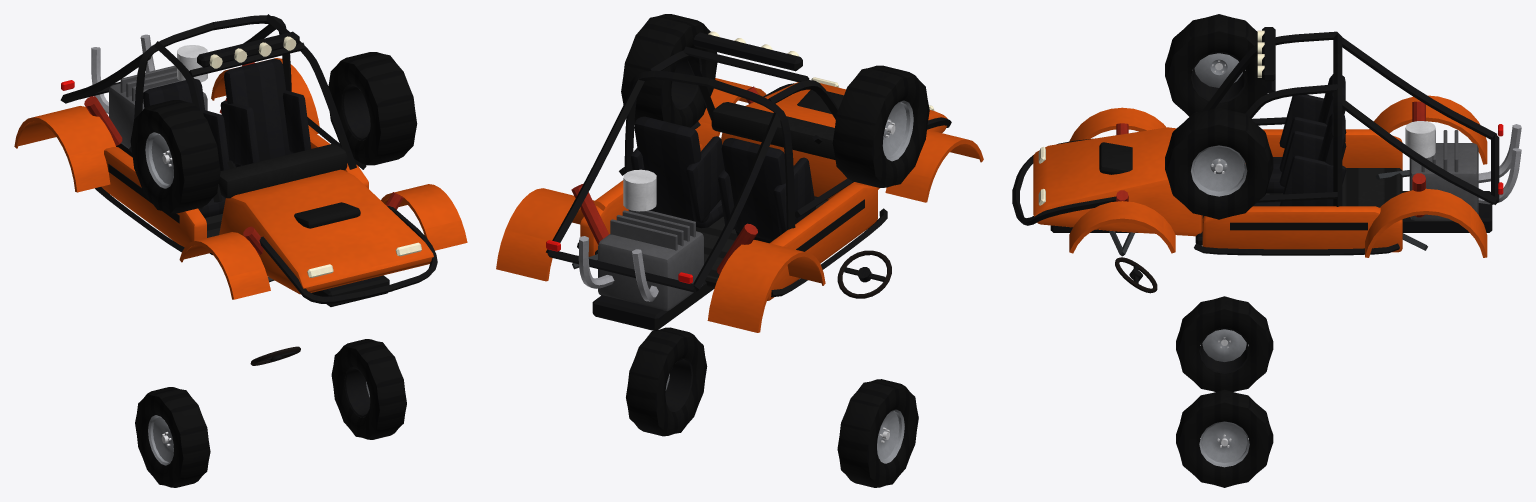
The model's file is ToofanBuggy.fbx.
3 views of the same model, side by side, from view 1: azimuth 30°, elevation 25°; view 2: azimuth 150°, elevation 25°; view 3: azimuth 270°, elevation 25° (orthographic). The views are drawn at different scales.
Visible parts, largest first — view 1: Body_LOD0, Wheel_RR_Mesh_LOD0, Wheel_RL_Mesh_LOD0, Wheel_FL_Mesh_LOD0, Wheel_FR_Mesh_LOD0; view 2: Body_LOD0, Wheel_RR_Mesh_LOD0, Wheel_FL_Mesh_LOD0, Wheel_FR_Mesh_LOD0, Wheel_RL_Mesh_LOD0, Steering_Pivot_Mesh_LOD0; view 3: Body_LOD0, Wheel_RL_Mesh_LOD0, Wheel_RR_Mesh_LOD0, Wheel_FL_Mesh_LOD0, Wheel_FR_Mesh_LOD0, Steering_Pivot_Mesh_LOD0.
Boxes of the visible parts, x1,y1,x2,y2 form: Body_LOD0: (14,14,467,306); Wheel_RR_Mesh_LOD0: (130,100,220,213); Wheel_RL_Mesh_LOD0: (328,52,417,165); Wheel_FL_Mesh_LOD0: (331,339,406,439); Wheel_FR_Mesh_LOD0: (135,387,210,487); Body_LOD0: (496,31,983,332); Wheel_RR_Mesh_LOD0: (832,65,929,187); Wheel_FL_Mesh_LOD0: (626,327,707,436); Wheel_FR_Mesh_LOD0: (837,379,918,487); Wheel_RL_Mesh_LOD0: (621,14,717,127); Steering_Pivot_Mesh_LOD0: (837,250,891,298); Body_LOD0: (1012,27,1521,257); Wheel_RL_Mesh_LOD0: (1165,107,1273,219); Wheel_RR_Mesh_LOD0: (1165,14,1267,116); Wheel_FL_Mesh_LOD0: (1176,389,1273,487); Wheel_FR_Mesh_LOD0: (1176,296,1273,391); Steering_Pivot_Mesh_LOD0: (1115,257,1157,293).
Size of what is drawn, in the model's own units: 1.98 by 3.1 by 3.69.
